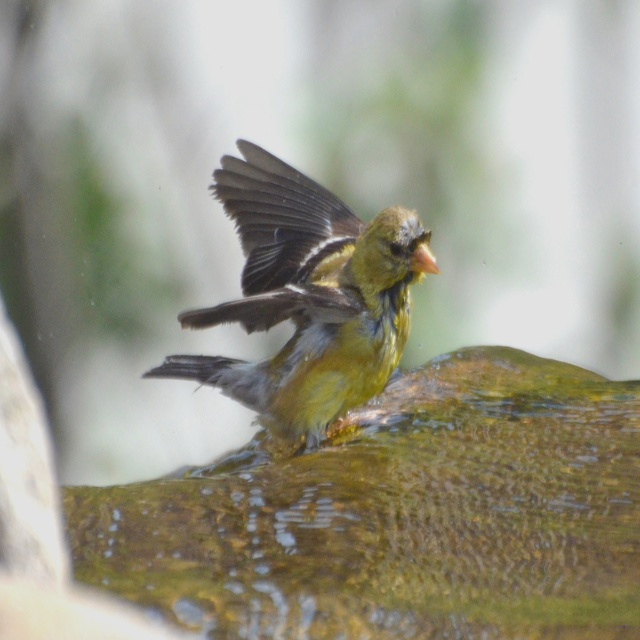Canary: (140, 135, 441, 454)
